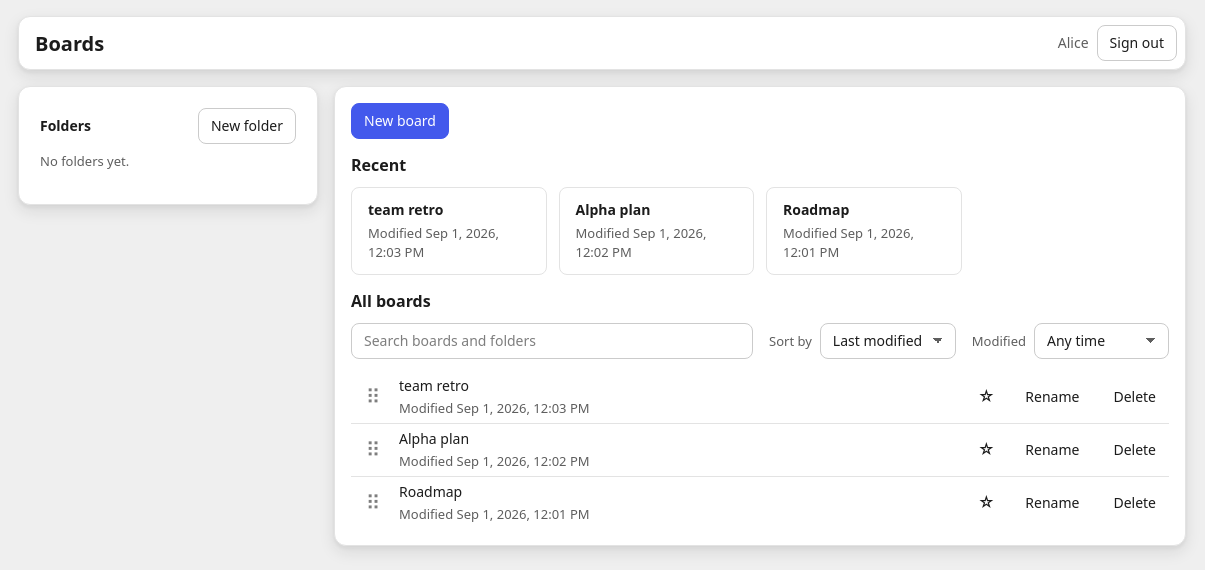
Test: / — сортировка, фильтр, поиск (BRD-05, BRD-06) › BRD-05: фильтр по дате изменения передаёт границу серверу
This screenshot has width=1205, height=570.
Select "Last 7 days" in the dropdown labelled "Modified": (1102, 341) [1034, 323, 1169, 359]
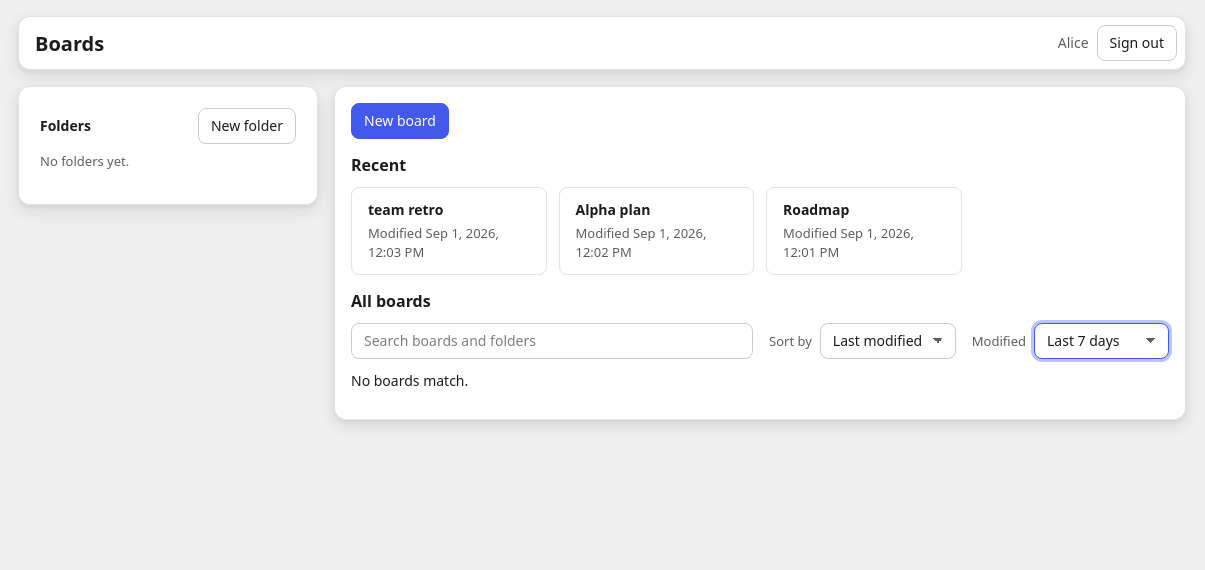
Expected: the text "No boards match." is shown, [351, 371, 468, 390]
